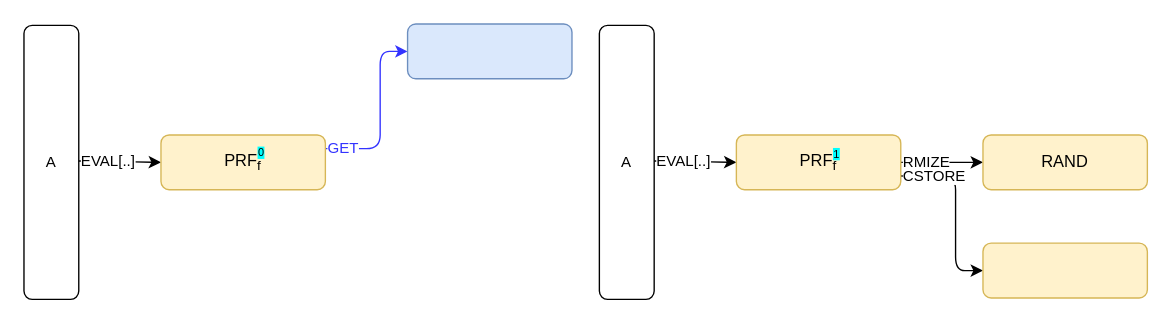
The diagram is 1171 pixels wide and 323 high, and some of its shapes have lost their labels. Each missing label, with the centre of its shape:
"ARRAY prf [.. : prf]" goes at point 1064,270.
"KEY" goes at point 489,51.
